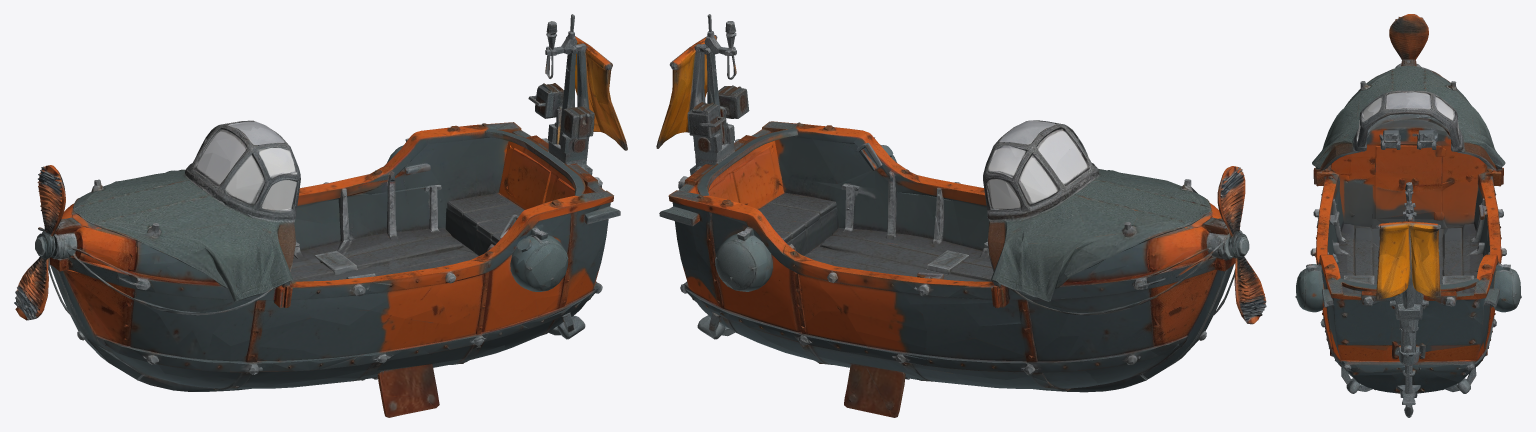
The model's file is hull.glb.
3 renders of one model, left to right at view 1: azimuth 30°, elevation 25°; view 2: azimuth 150°, elevation 25°; view 3: azimuth 270°, elevation 25°, orthographic. The views are drawn at different scales.
Parts seen in each view (by area): view 1: Mesh_0; view 2: Mesh_0; view 3: Mesh_0.
Part boxes in pixels (box(x1,y1,x2,y2)): Mesh_0: box(14, 14, 627, 417); Mesh_0: box(656, 14, 1266, 417); Mesh_0: box(1295, 14, 1521, 417).
Bounding box in the file's own units: 1.9 × 0.9688 × 0.837.
1 material, 1 textured.
